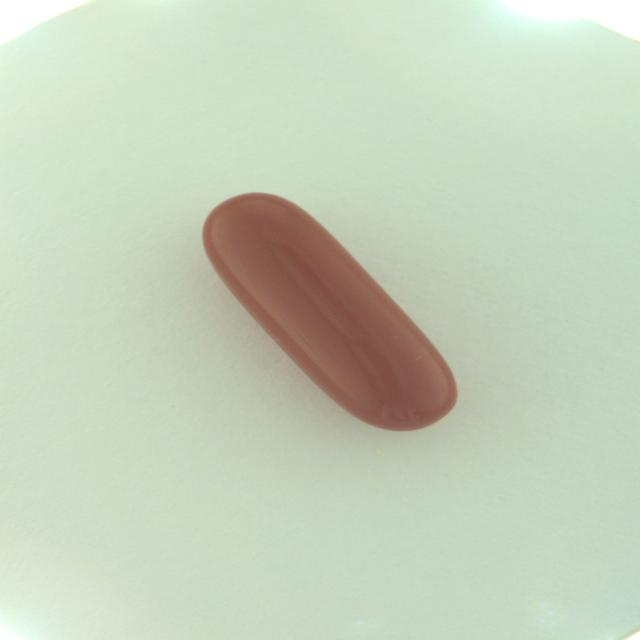Oval: (197, 189, 465, 439)
